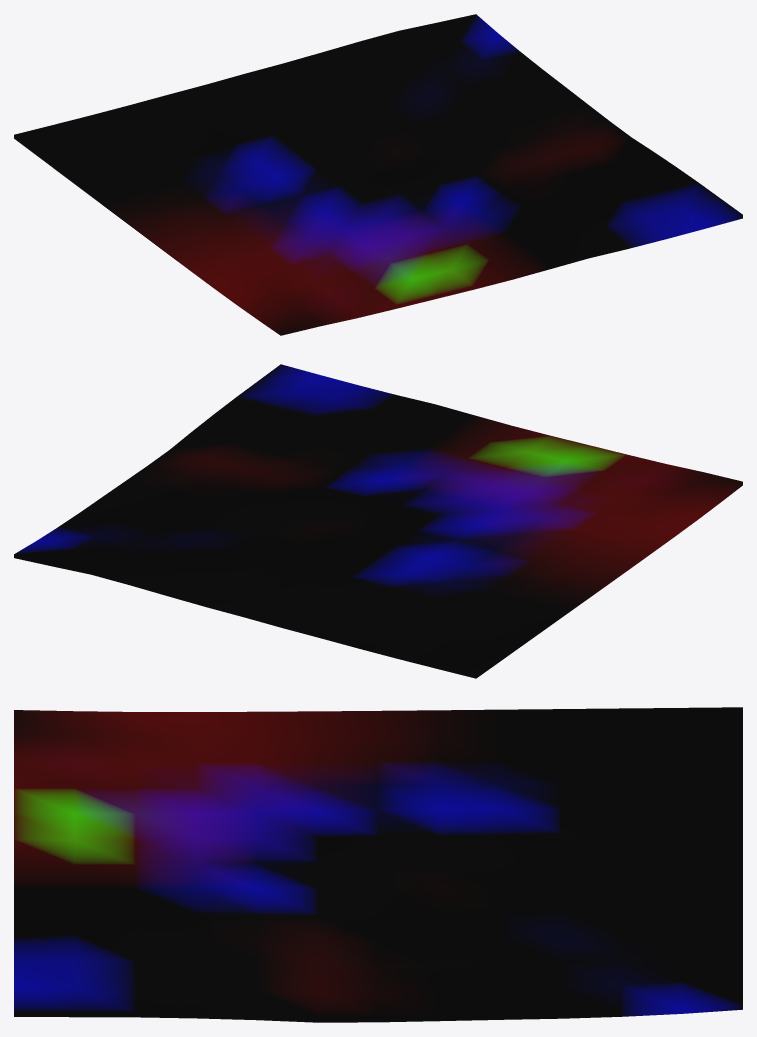
The model's file is coast_18_7.glb.
3 views of the same model, one above another, from view 1: azimuth 30°, elevation 25°; view 2: azimuth 150°, elevation 25°; view 3: azimuth 270°, elevation 25° (orthographic). The views are drawn at different scales.
Parts seen in each view (by area): view 1: terrain; view 2: terrain; view 3: terrain.
Part boxes in pixels (x1,y1,x2,y2): terrain: (14,14,742,335); terrain: (14,364,742,678); terrain: (14,707,742,1022).
Bounding box in the file's own units: 192 × 6.9 × 192.
